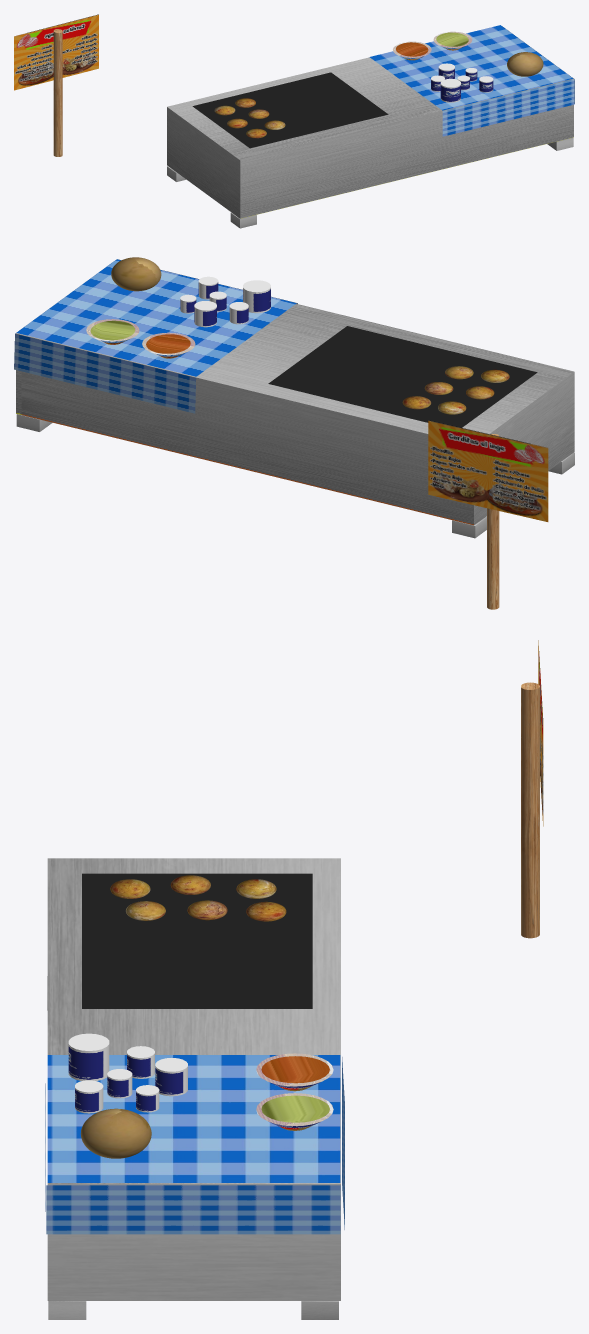
The model's file is puesto_garanachas.obj.
3 renders of one model, top to bottom at view 1: azimuth 30°, elevation 25°; view 2: azimuth 150°, elevation 25°; view 3: azimuth 270°, elevation 25°, orthographic. The views are drawn at different scales.
Parts seen in each view (by area): view 1: plancha_g, plancha, mantel_arriba, anuncio, mantel_atras, palo_anuncio, masa, bote_comida_1, salsa_v, salsa_r; view 2: plancha_g, plancha, mantel_arriba, anuncio, mantel_frente, masa, palo_anuncio, bote_comida_1, salsa_r, salsa_v, bote_comida_004, pata_g3; view 3: plancha_g, plancha, mantel_arriba, mantel_lateral, palo_anuncio, masa, bote_comida_1, salsa_v, salsa_r, bote_comida_004, bote_comida_006, bote_comida_002.
Boxes of the visible parts, box(x1,y1,x2,y2) form: plancha_g: box(167, 57, 573, 218); plancha: box(192, 72, 388, 148); mantel_arriba: box(370, 25, 572, 110); anuncio: box(14, 14, 98, 90); mantel_atras: box(442, 79, 574, 136); palo_anuncio: box(53, 29, 62, 156); masa: box(507, 52, 543, 76); bote_comida_1: box(440, 78, 460, 102); salsa_v: box(436, 32, 468, 46); salsa_r: box(396, 42, 428, 56); plancha_g: box(16, 303, 574, 525); plancha: box(268, 326, 537, 427); mantel_arriba: box(16, 259, 296, 376); anuncio: box(428, 420, 548, 521); mantel_frente: box(14, 334, 196, 413); masa: box(111, 257, 161, 291); palo_anuncio: box(487, 434, 499, 609); bote_comida_1: box(243, 280, 270, 313); salsa_r: box(146, 334, 190, 353); salsa_v: box(90, 320, 135, 340); bote_comida_004: box(194, 301, 216, 327); pata_g3: box(452, 516, 486, 538); plancha_g: box(47, 858, 340, 1300); plancha: box(82, 873, 312, 1008); mantel_arriba: box(47, 1055, 340, 1182); mantel_lateral: box(46, 1185, 340, 1234); palo_anuncio: box(521, 682, 539, 938); masa: box(80, 1108, 151, 1158); bote_comida_1: box(68, 1033, 109, 1080); salsa_v: box(261, 1095, 329, 1122); salsa_r: box(261, 1056, 329, 1083); bote_comida_004: box(155, 1058, 187, 1096); bote_comida_006: box(75, 1080, 103, 1113); bote_comida_002: box(127, 1046, 154, 1078).
Size of the model in its own units: 19.23 by 5.36 by 9.46.
